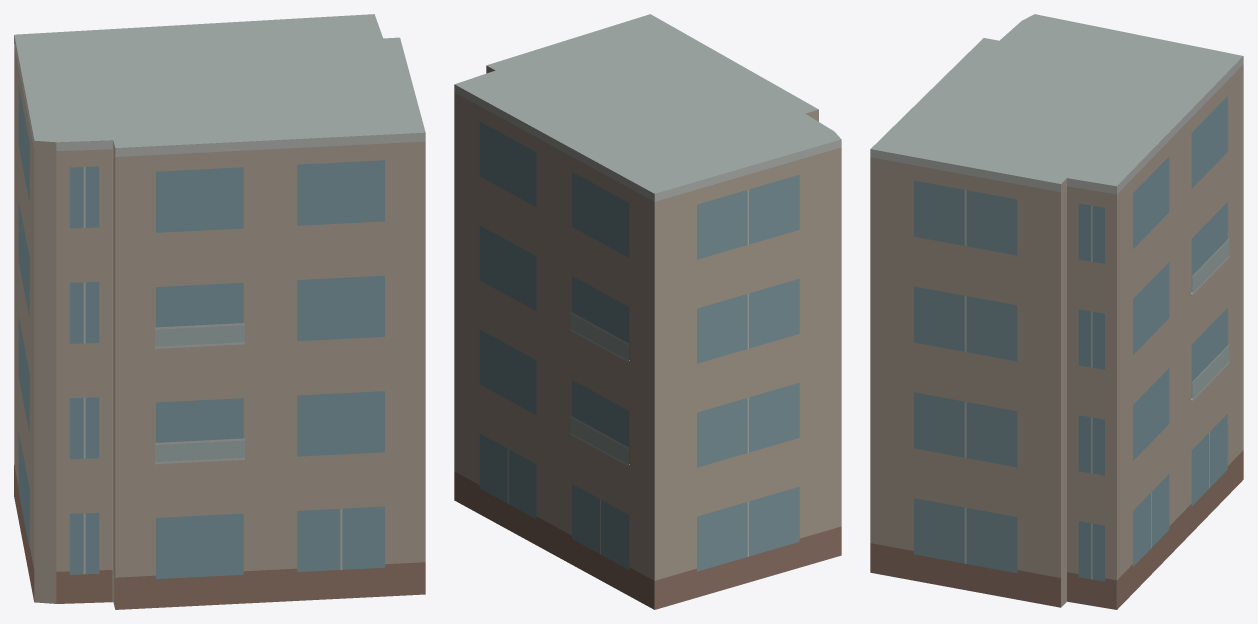
File: survey-upis-32870271.glb
The picture shows the model from 3 angles, left to right: view 1: azimuth 30°, elevation 25°; view 2: azimuth 150°, elevation 25°; view 3: azimuth 270°, elevation 25°; orthographic projection. The views are drawn at different scales.
Parts seen in each view (by area): view 1: survey-upis-32870271.tmp; view 2: survey-upis-32870271.tmp; view 3: survey-upis-32870271.tmp.
Part boxes in pixels (left/top/right/bottom): survey-upis-32870271.tmp: left=14, top=14, right=425, bottom=609; survey-upis-32870271.tmp: left=454, top=14, right=841, bottom=609; survey-upis-32870271.tmp: left=870, top=14, right=1243, bottom=609.
Bounding box in the file's own units: 11.09 × 12.7 × 10.15.
